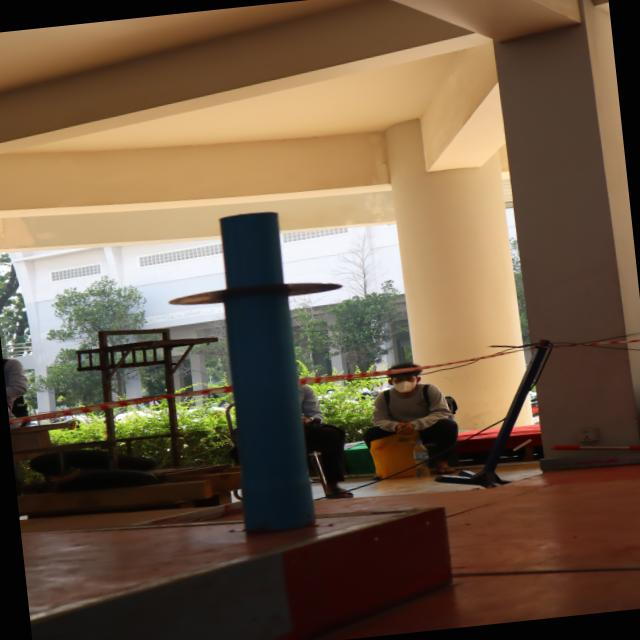pole: (142, 198, 368, 384)
